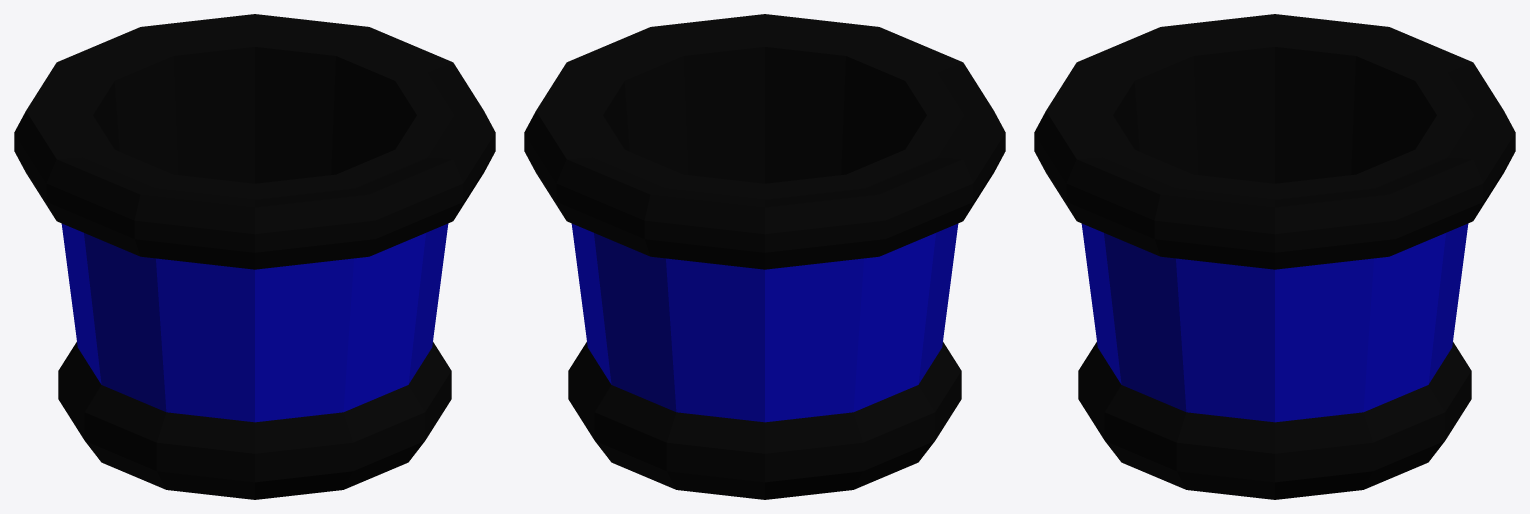
The model's file is pot.fbx.
3 renders of one model, left to right at view 1: azimuth 30°, elevation 25°; view 2: azimuth 150°, elevation 25°; view 3: azimuth 270°, elevation 25°, orthographic.
Parts seen in each view (by area): view 1: pCylinder47; view 2: pCylinder47; view 3: pCylinder47.
Boxes of the visible parts, x1,y1,x2,y2 form: pCylinder47: (14, 14, 495, 499); pCylinder47: (524, 14, 1005, 499); pCylinder47: (1034, 14, 1515, 499).
Size of the model in its own units: 5.29 by 3.81 by 5.29.
